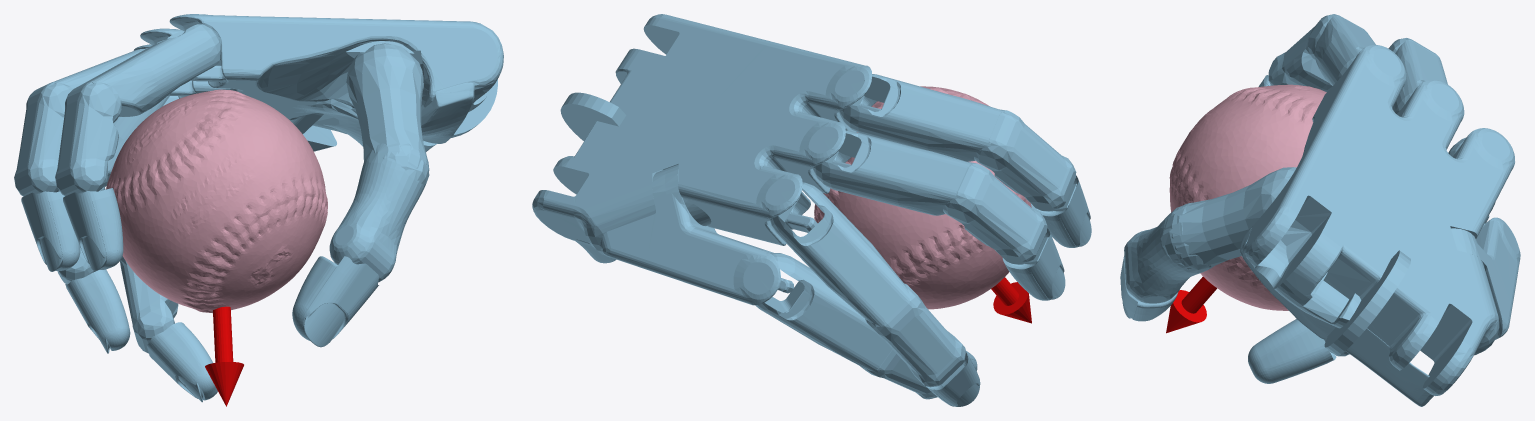
3 renders of one model, left to right at view 1: azimuth 30°, elevation 25°; view 2: azimuth 150°, elevation 25°; view 3: azimuth 270°, elevation 25°, orthographic. The views are drawn at different scales.
Parts seen in each view (by area): view 1: world, baseball.stl; view 2: world, baseball.stl; view 3: world, baseball.stl.
Boxes of the visible parts, x1,y1,x2,y2 form: world: (14,14,503,406); baseball.stl: (106,89,327,313); world: (532,14,1091,406); baseball.stl: (814,86,1031,309); world: (1120,14,1520,406); baseball.stl: (1169,84,1326,310).
Size of the model in its own units: 0.1799 by 0.1249 by 0.1276.
